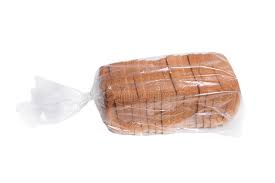bread: (31, 49, 246, 138)
